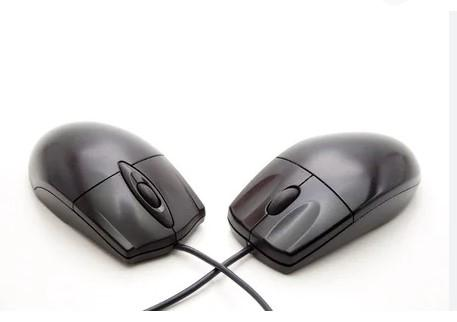computer mouse: (149, 132, 422, 310), (27, 122, 206, 268)
